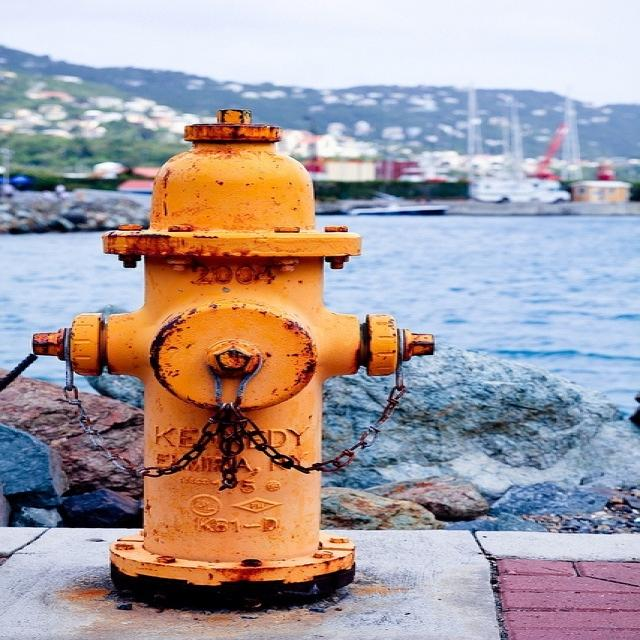fire_hydrant: (0, 0, 439, 640)
